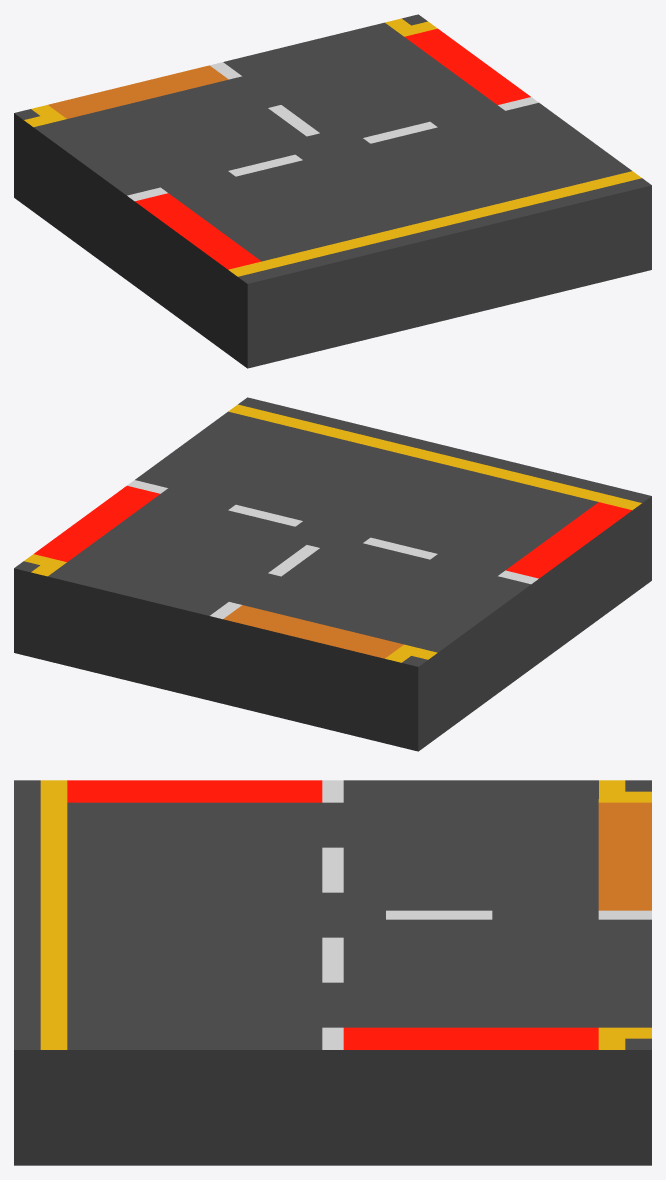
File: 3way_ROR_road.fbx
3 views of the same model, one above another, from view 1: azimuth 30°, elevation 25°; view 2: azimuth 150°, elevation 25°; view 3: azimuth 270°, elevation 25° (orthographic). The views are drawn at different scales.
Parts seen in each view (by area): view 1: Cube; view 2: Cube; view 3: Cube.
Boxes of the visible parts, x1,y1,x2,y2 form: Cube: (14,14,651,368); Cube: (14,397,651,751); Cube: (14,780,651,1165).
Bounding box in the file's own units: 100 × 20 × 100.
